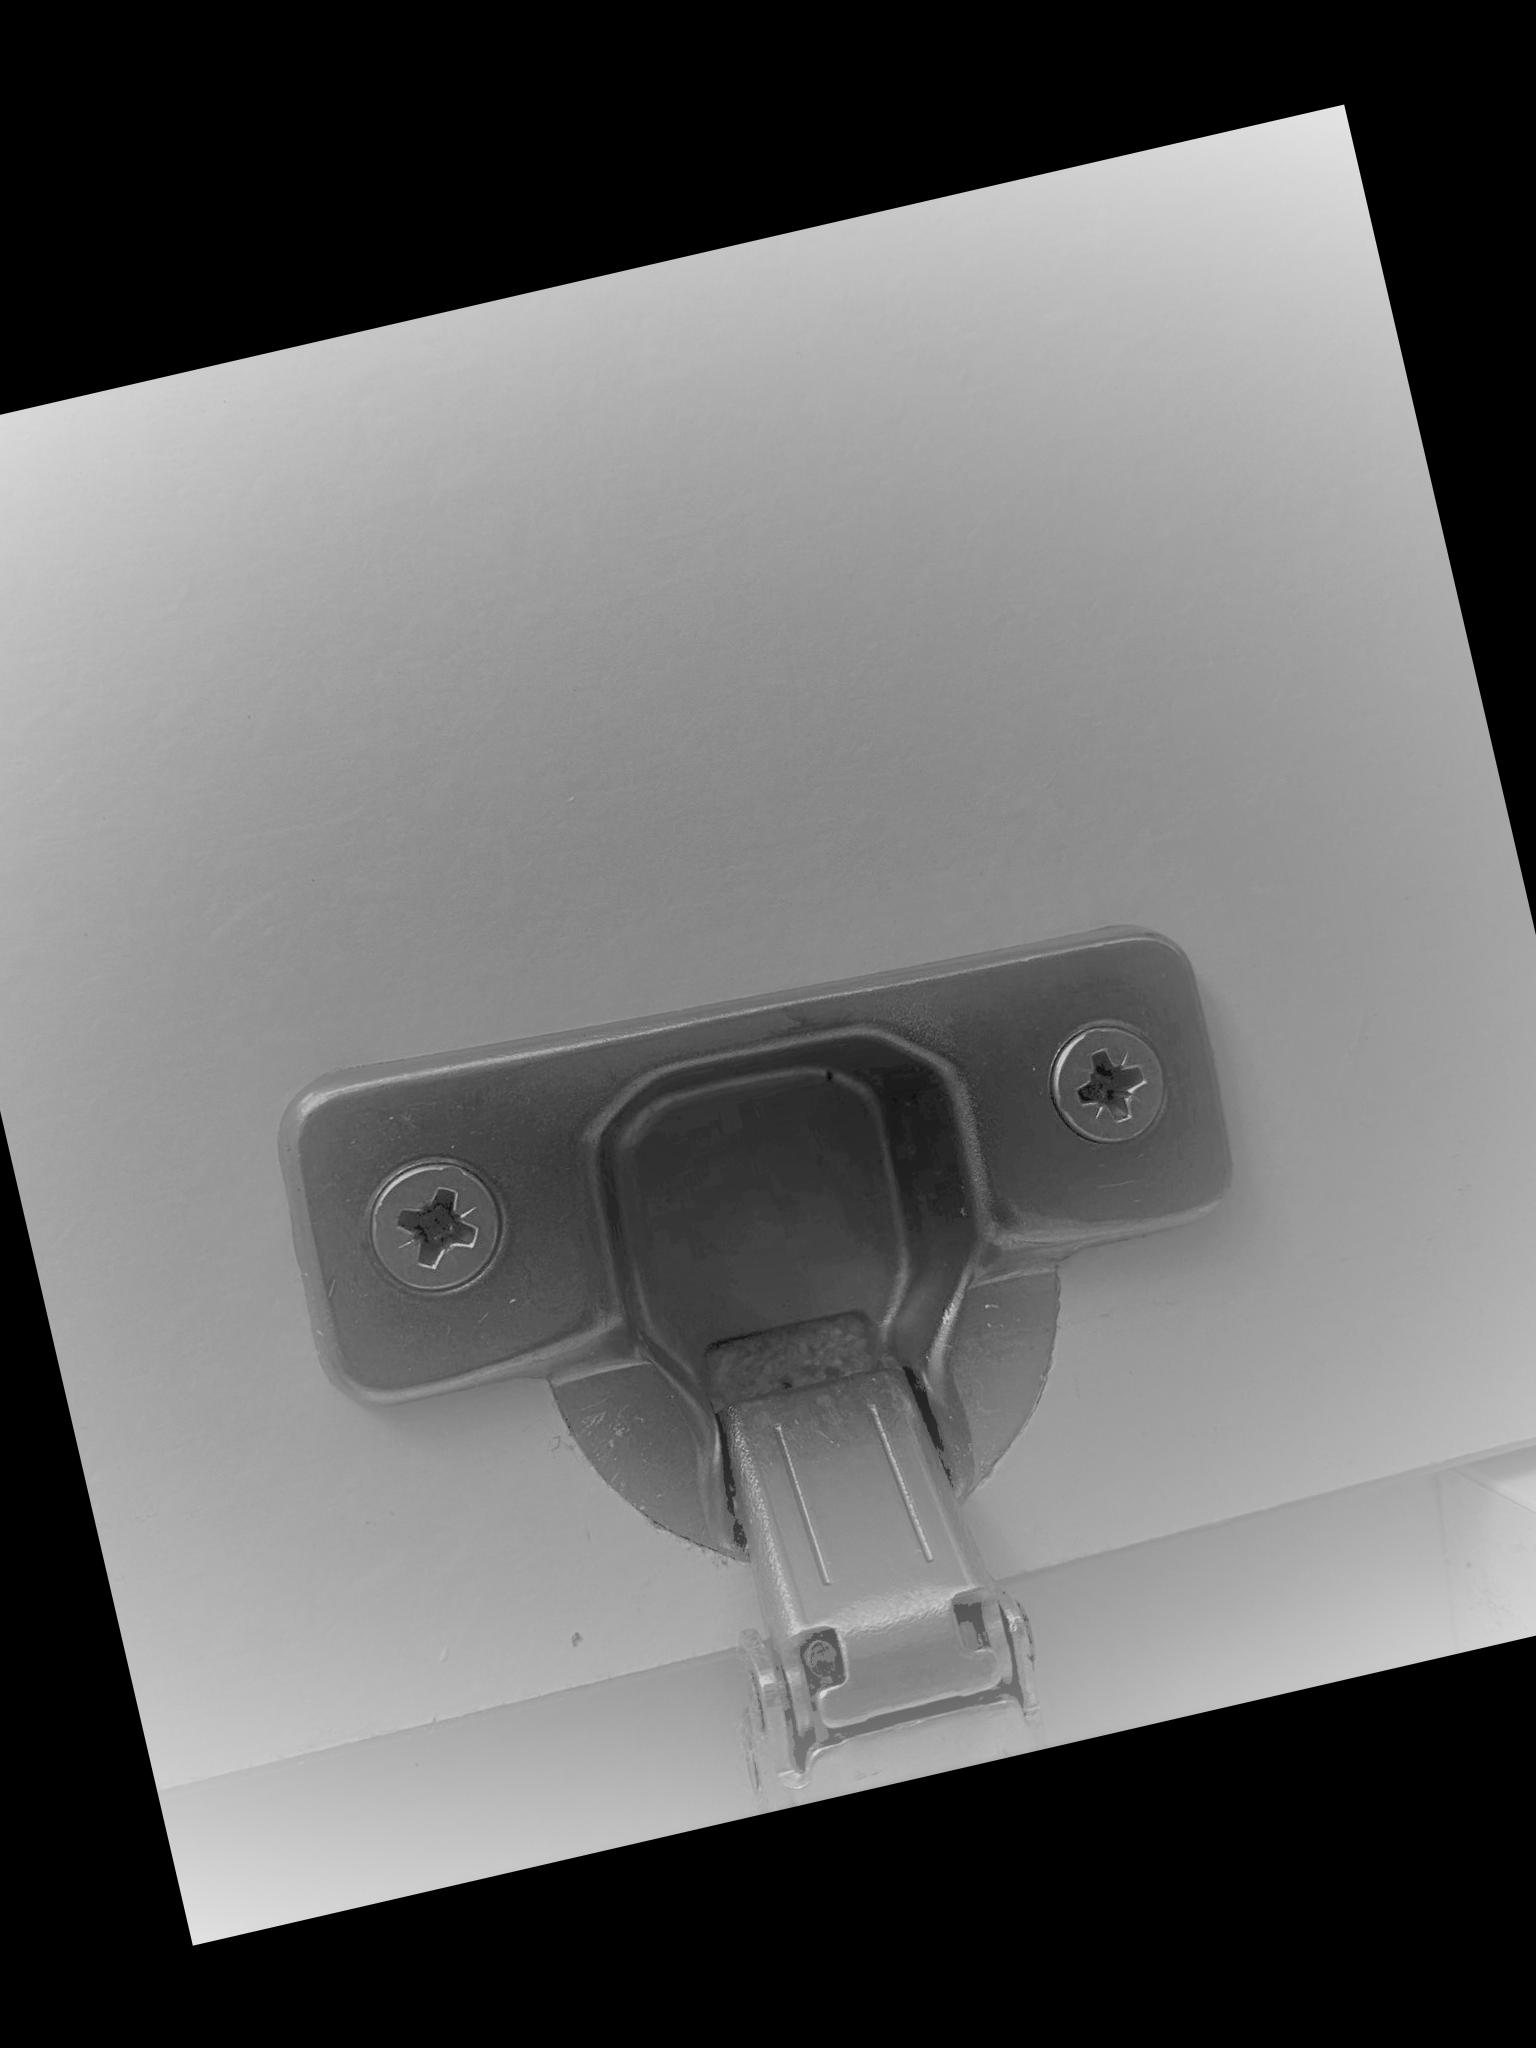PH: (355, 1150, 516, 1306), (1036, 1009, 1183, 1159)
